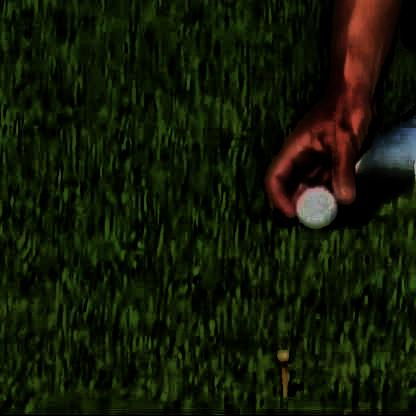golfball: (294, 182, 333, 224)
